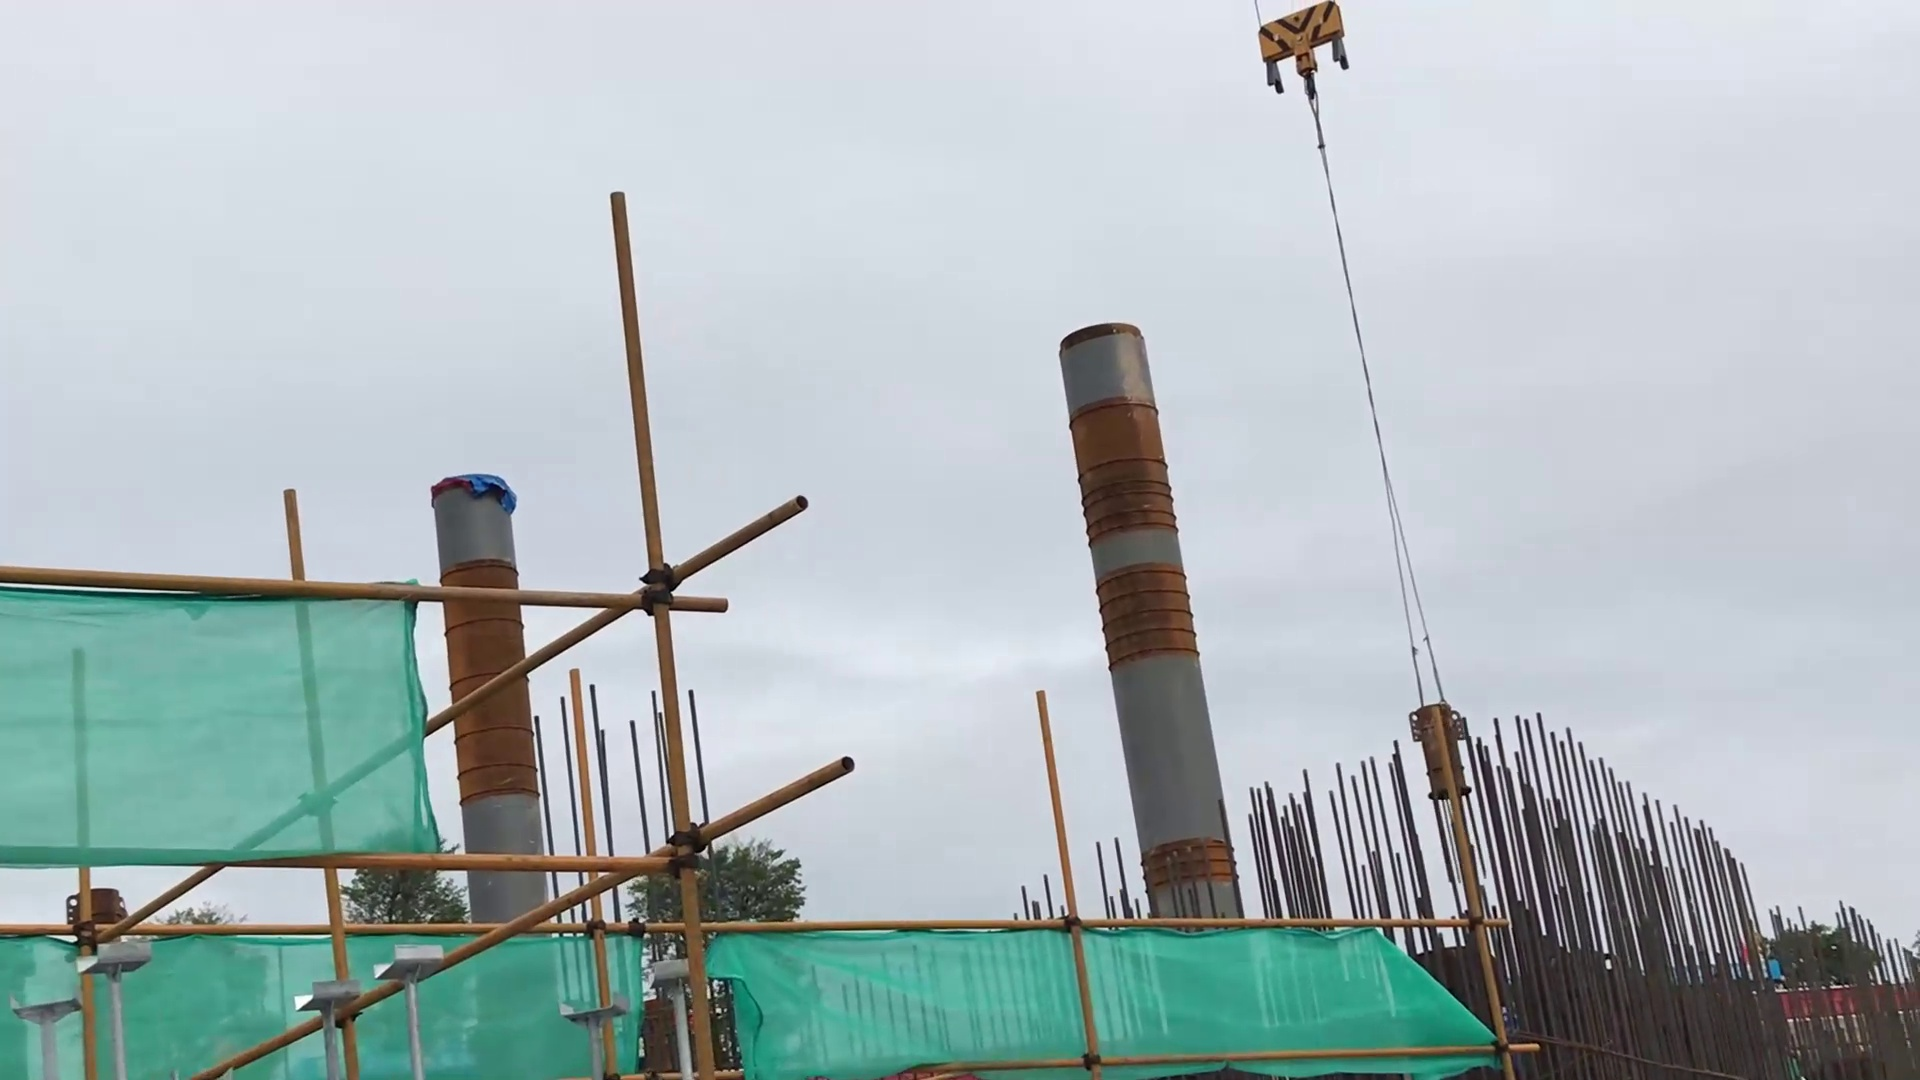hook: (1251, 7, 1360, 99)
